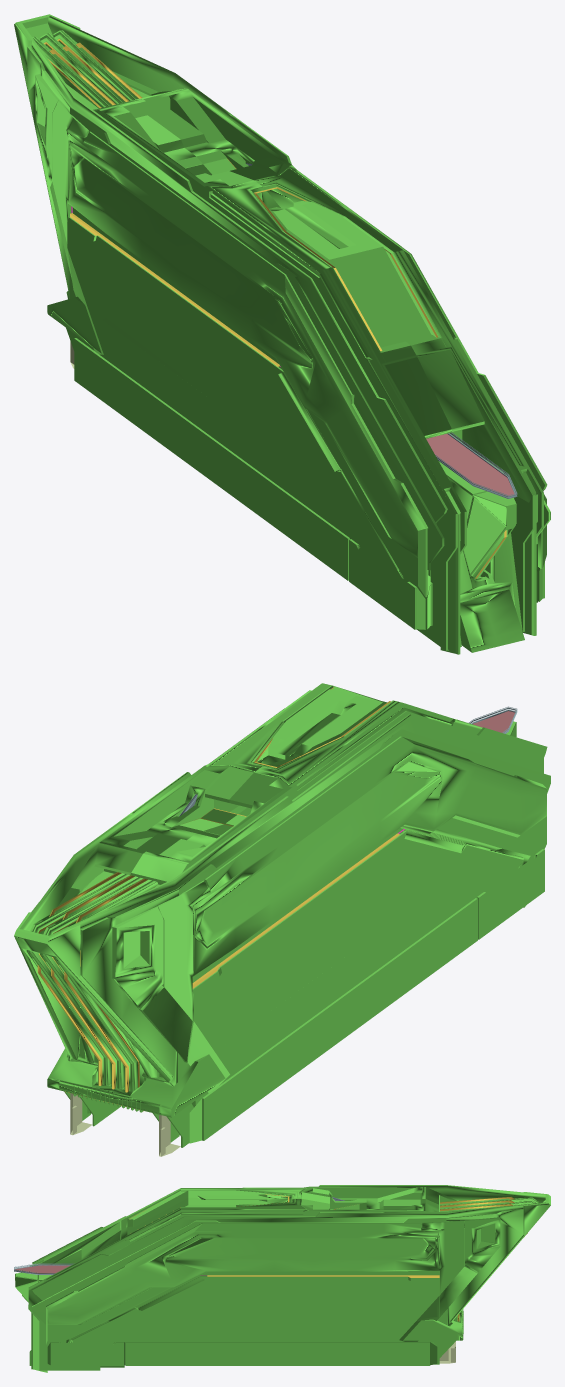
File: prison_structure_a_lod1.glb
3 renders of one model, top to bottom at view 1: azimuth 30°, elevation 25°; view 2: azimuth 150°, elevation 25°; view 3: azimuth 270°, elevation 25°, orthographic. The views are drawn at different scales.
Bounding box in the file's own units: 59.17 × 127 × 378.
